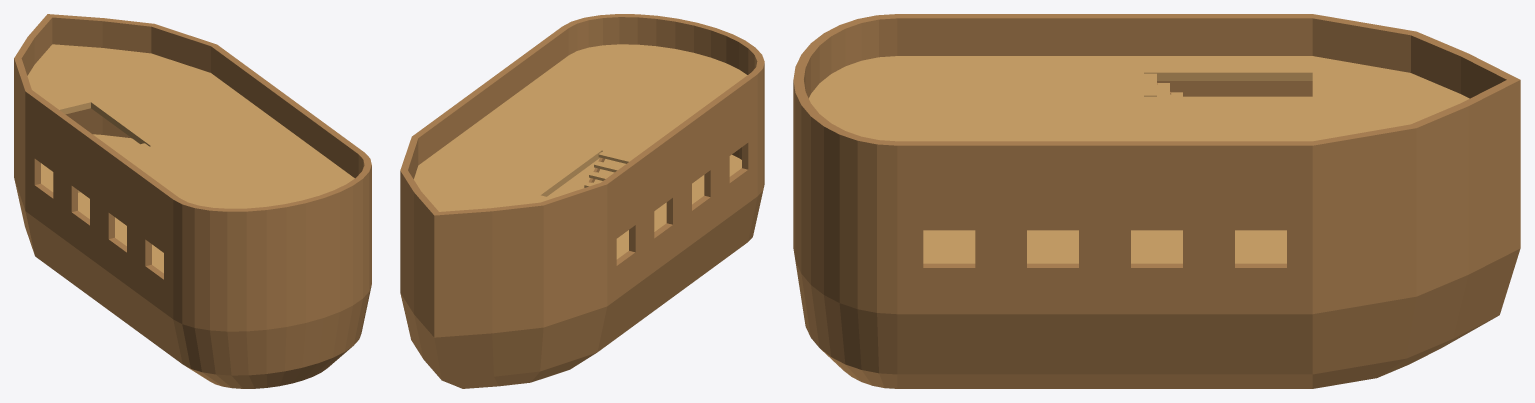
The model's file is DOUBLE_DECK.glb.
3 renders of one model, left to right at view 1: azimuth 30°, elevation 25°; view 2: azimuth 150°, elevation 25°; view 3: azimuth 270°, elevation 25°, orthographic. The views are drawn at different scales.
Bounding box in the file's own units: 6 × 6 × 14.
